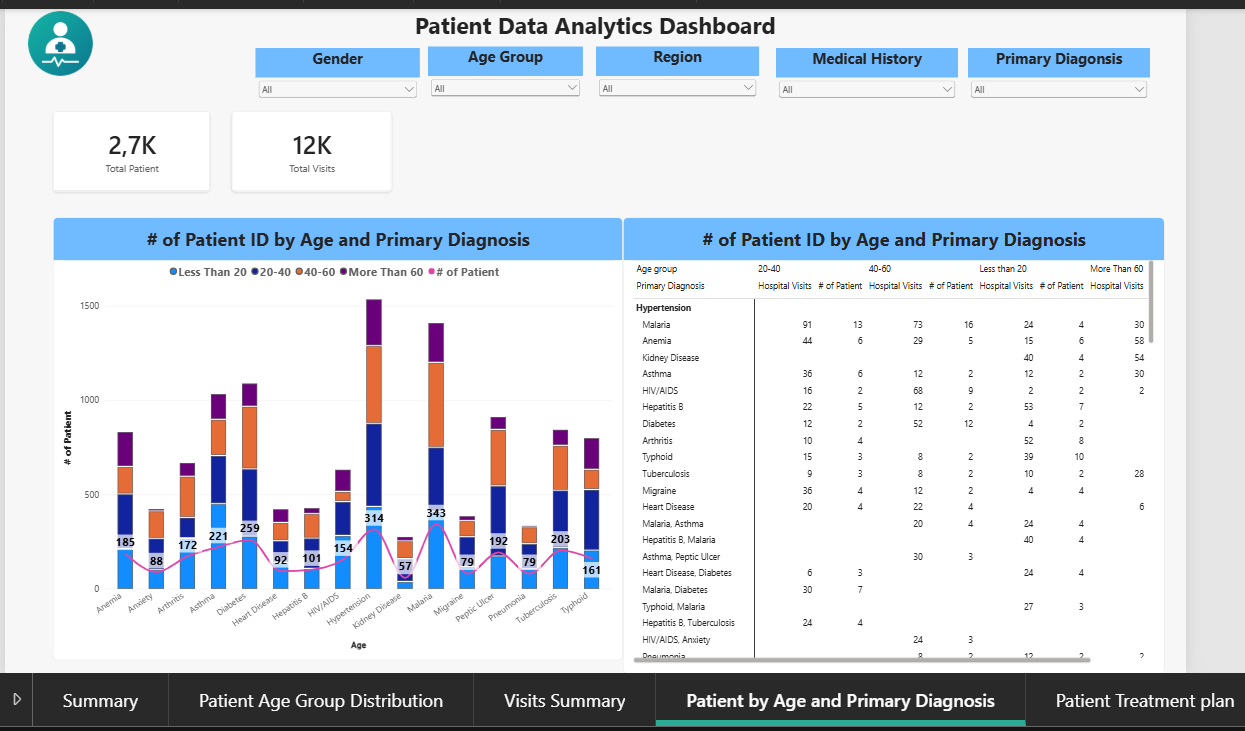

What the dashboard file says about the page in this screenshot:
{"tool":"powerbi","page":{"name":"Patient by Age and Primary Diagnosis","canvas":[1920,1080],"ordinal":3},"visuals":[{"type":"lineStackedColumnComboChart","title":"# of Patient ID by Age and Primary Diagnosis","fields":{"Category":["Patient Data.Primary Diagnosis"],"Series":["Age Group Sorting.Age  Group"],"Y":["Sum(Patient Data.Hospital Visits)"],"Y2":["CountNonNull(Patient Data.Patient ID)"]},"box":[79,340.3,926.6,720],"z":0},{"type":"textbox","box":[0,0,1920.1,87.8],"z":1000},{"type":"slicer","title":"Medical History","fields":{"Values":["Patient Data.Medical Histpory"]},"box":[1254.1,63.4,296.2,122.6],"z":2000},{"type":"slicer","title":"Region","fields":{"Values":["Patient Data.Region"]},"box":[961.3,61,265.5,122.6],"z":4000},{"type":"slicer","title":"Age Group","fields":{"Values":["Age Group Sorting.Age  Group"]},"box":[688,61,252.2,121.5],"z":5000},{"type":"slicer","title":"Primary Diagonsis","fields":{"Values":["Patient Data.Primary Diagnosis"]},"box":[1566.4,63.4,296.2,122.6],"z":6000},{"type":"slicer","title":"Gender","fields":{"Values":["Patient Data.Gender"]},"box":[407.4,63.4,267.3,121.5],"z":7000},{"type":"cardVisual","title":"Total Patient","fields":{"Data":["CountNonNull(Patient Data.Patient ID)"]},"box":[78.1,165.9,256.2,131.8],"z":9000},{"type":"cardVisual","title":"Total Patient","fields":{"Data":["Sum(Patient Data.Hospital Visits)"]},"box":[368.4,165.9,261.1,131.8],"z":10000},{"type":"pivotTable","title":"# of Patient ID by Age and Primary Diagnosis","fields":{"Columns":["Patient Data.Age group"],"Rows":["Patient Data.Primary Diagnosis","Patient Data.Secondary Diagnoses"],"Values":["Sum(Patient Data.Hospital Visits)","CountNonNull(Patient Data.Patient ID)"]},"box":[1005.2,339.1,880.8,741.7],"z":14001},{"type":"image","box":[34.2,0,112.2,112.2],"z":14002}]}

Visuals, with their boxes on the page's 1920x1080 design canvas (x1, y1, x2, y2). These are canvas units, not pixel positions in the 1245x731 screenshot, which may show the page scaled, cropped or inside an application window:
"# of Patient ID by Age and Primary Diagnosis" lineStackedColumnComboChart: bbox=[79, 340, 1006, 1060]
textbox: bbox=[0, 0, 1920, 88]
"Medical History" slicer: bbox=[1254, 63, 1550, 186]
"Region" slicer: bbox=[961, 61, 1227, 184]
"Age Group" slicer: bbox=[688, 61, 940, 182]
"Primary Diagonsis" slicer: bbox=[1566, 63, 1863, 186]
"Gender" slicer: bbox=[407, 63, 675, 185]
"Total Patient" cardVisual: bbox=[78, 166, 334, 298]
"Total Patient" cardVisual: bbox=[368, 166, 630, 298]
"# of Patient ID by Age and Primary Diagnosis" pivotTable: bbox=[1005, 339, 1886, 1081]
image: bbox=[34, 0, 146, 112]
